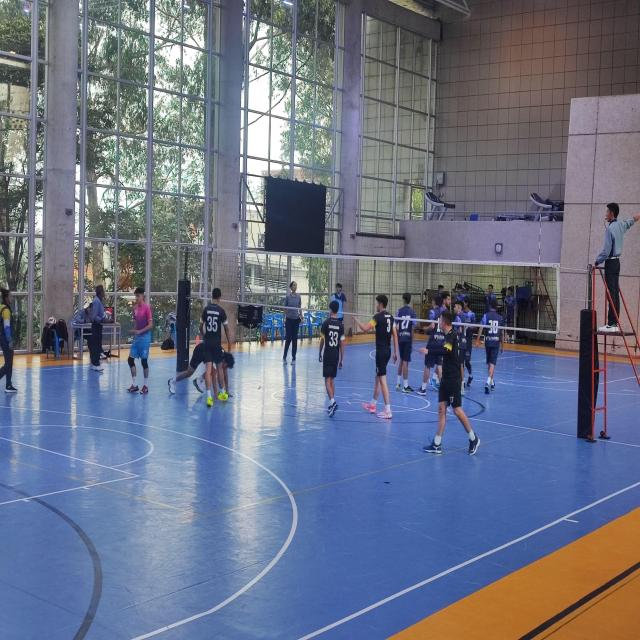volleyball: (47, 316, 56, 327), (103, 310, 111, 322)
